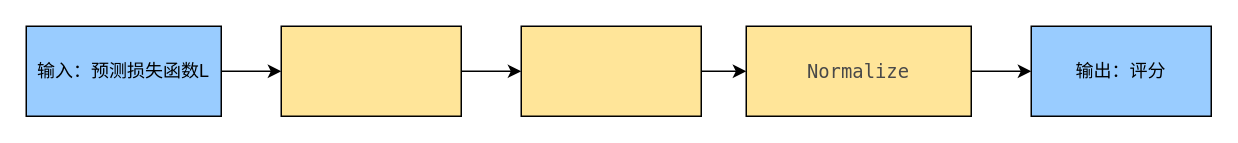
Image size: 1238x143. Some labels were removed from this diagram. Here are the shapes that lost their labels. From the top down, the box of each, then its label:
(280, 25, 461, 116): Grad-CAM
(520, 25, 701, 116): Pooling
